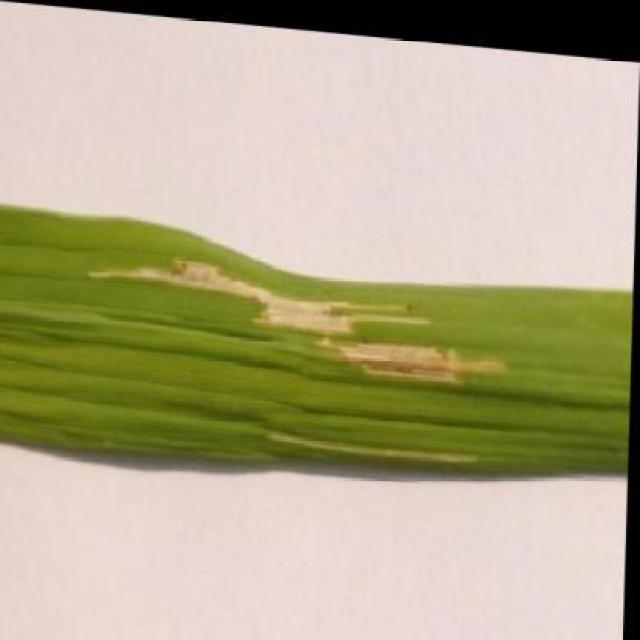Brown_Spot: (0, 195, 635, 499)
